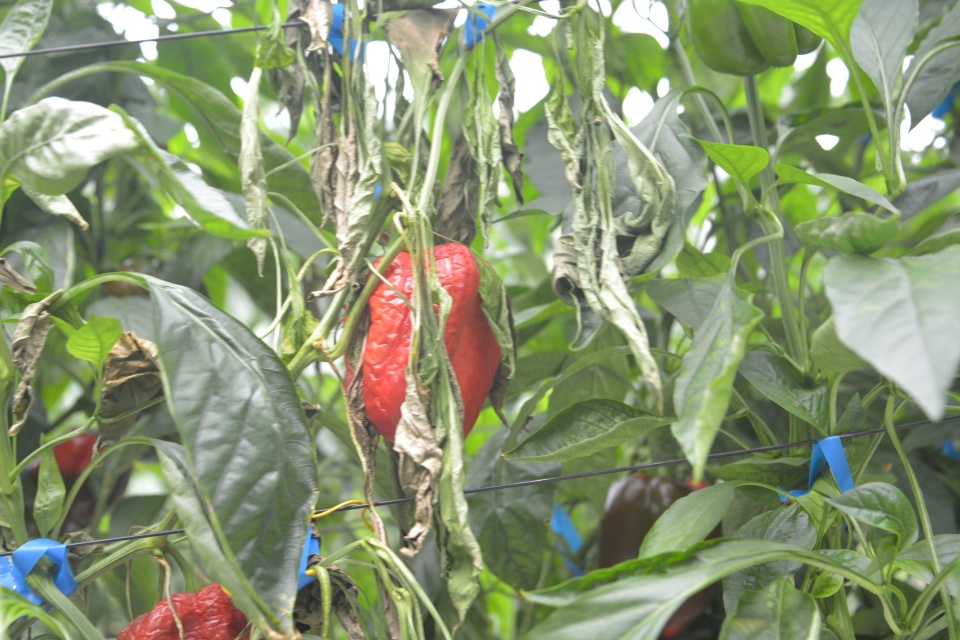fruit: (342, 239, 502, 451), (596, 471, 724, 640), (24, 428, 134, 528), (684, 1, 824, 76), (114, 581, 248, 640)
